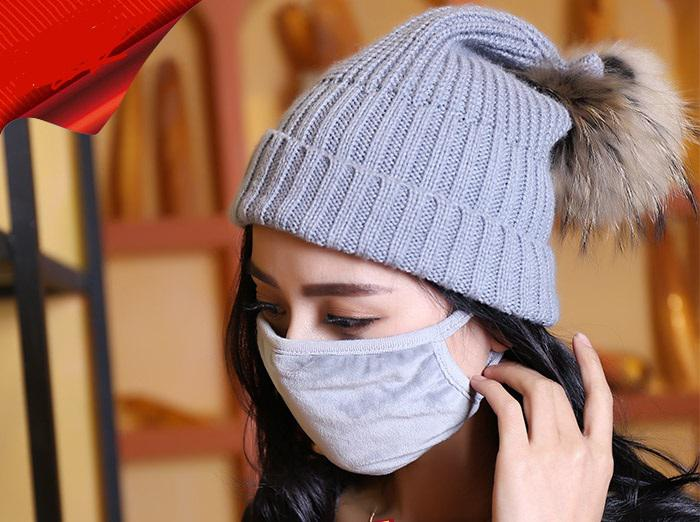OK: (243, 256, 458, 471)
